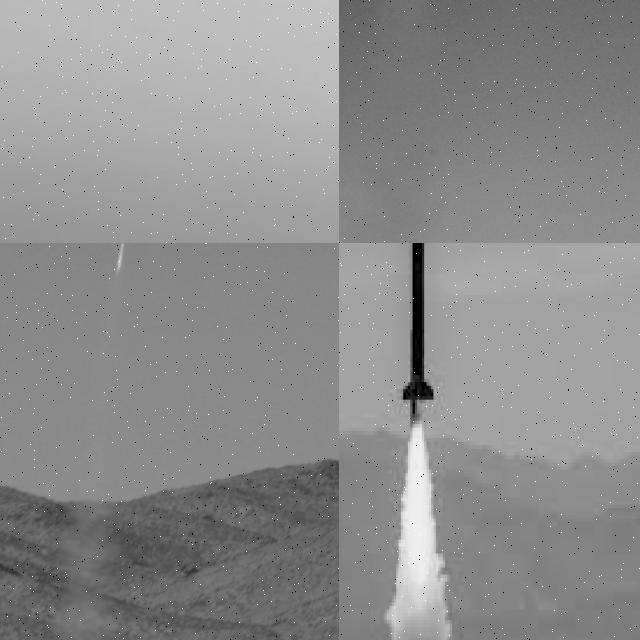Rocket: (399, 243, 435, 413)
